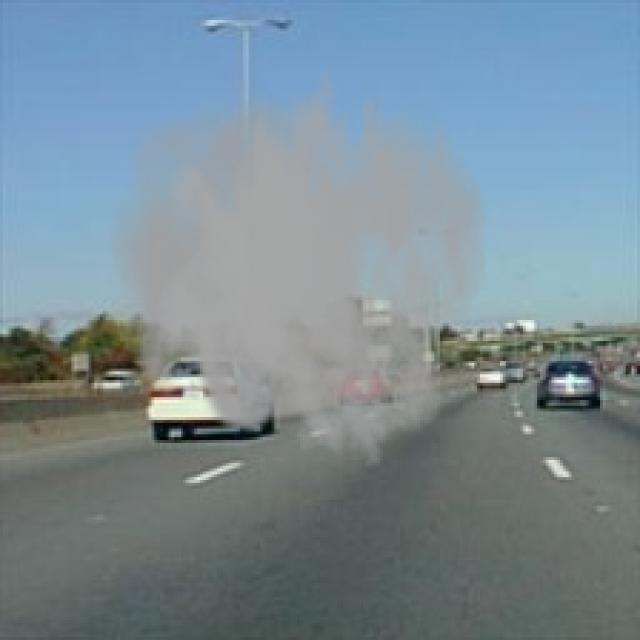Smoke: (109, 46, 488, 468)
